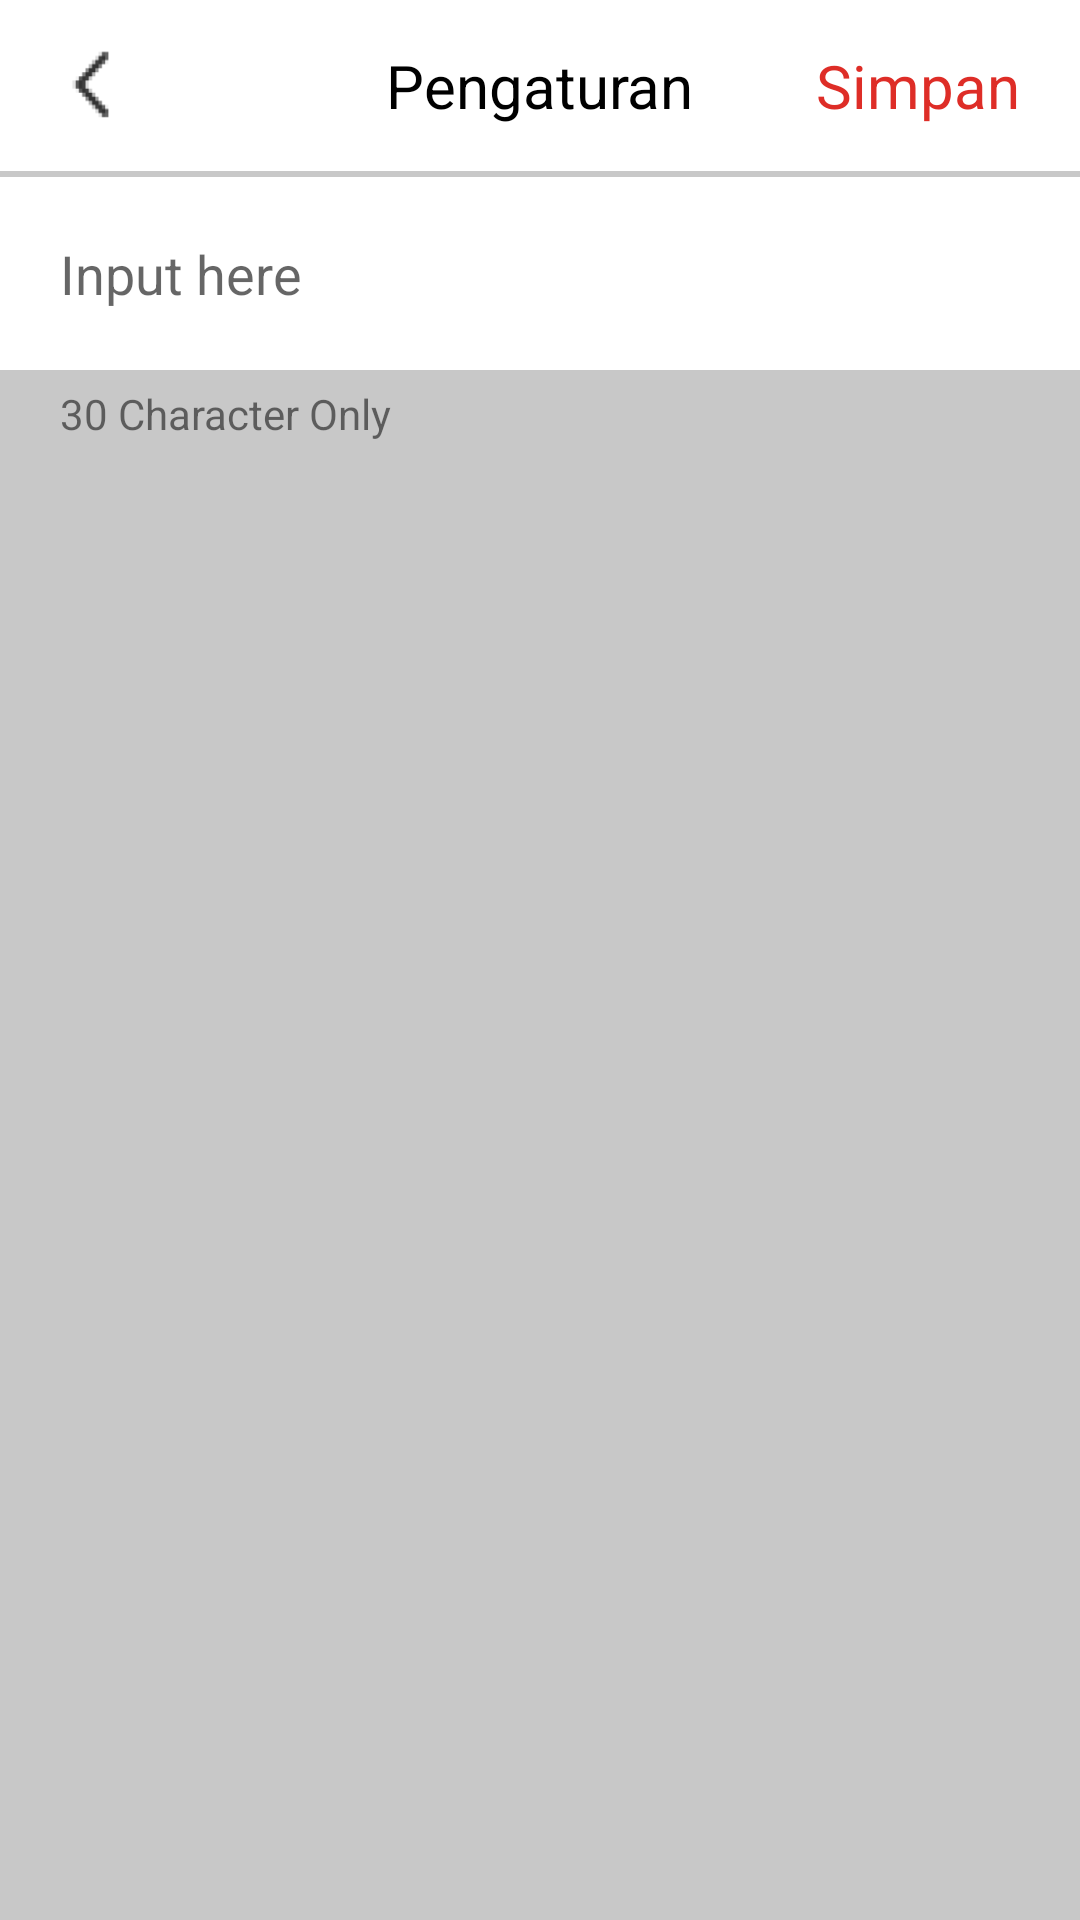

Locate icon controls on the screen. Image size 1080w x 1920h, boxes as {"left": x1, "top": y1, "right": x2, "bottom": y2}.
back setting: {"left": 73, "top": 51, "right": 109, "bottom": 118}
